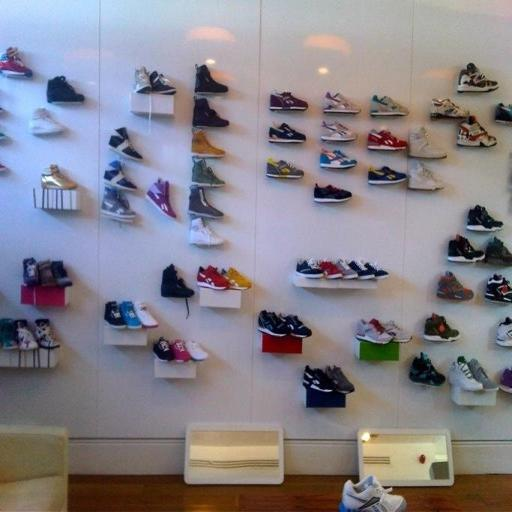shoe: (339, 475, 406, 512), (100, 186, 136, 222), (457, 115, 497, 147), (409, 352, 445, 387), (449, 355, 484, 391), (408, 127, 447, 159), (188, 185, 224, 219), (146, 178, 176, 218), (458, 63, 498, 93), (160, 264, 195, 298), (108, 127, 142, 161), (192, 97, 229, 128), (436, 271, 474, 301), (46, 75, 84, 104), (467, 358, 499, 392), (408, 161, 444, 191), (423, 313, 460, 342), (194, 64, 229, 94), (448, 234, 485, 262), (104, 160, 137, 191), (191, 158, 225, 188), (191, 129, 226, 158), (189, 217, 224, 246), (466, 205, 503, 232), (0, 47, 32, 78), (355, 318, 393, 344), (28, 108, 64, 135), (41, 164, 77, 190), (303, 365, 336, 393), (366, 129, 408, 151), (257, 310, 290, 337), (323, 91, 361, 114), (324, 365, 354, 394), (430, 98, 471, 119), (484, 236, 512, 266), (484, 274, 512, 304), (370, 95, 408, 117), (266, 157, 304, 179), (13, 319, 39, 351), (197, 265, 230, 290), (269, 90, 308, 111), (34, 318, 60, 349), (319, 148, 357, 169), (320, 121, 357, 142), (280, 314, 312, 338), (268, 123, 306, 143), (367, 166, 407, 185), (220, 267, 252, 290), (133, 301, 159, 329), (314, 184, 352, 203), (382, 320, 412, 343), (149, 71, 176, 95), (103, 301, 126, 329), (120, 300, 142, 329), (50, 260, 73, 287), (295, 258, 324, 278), (0, 318, 18, 350), (348, 260, 376, 280), (37, 259, 57, 286), (153, 337, 174, 362), (495, 317, 512, 347), (185, 340, 209, 361), (134, 66, 152, 94), (22, 257, 39, 286), (336, 258, 358, 280), (318, 259, 342, 279), (364, 262, 389, 280), (495, 103, 512, 125), (499, 368, 512, 393), (0, 162, 8, 173), (0, 131, 7, 141)
